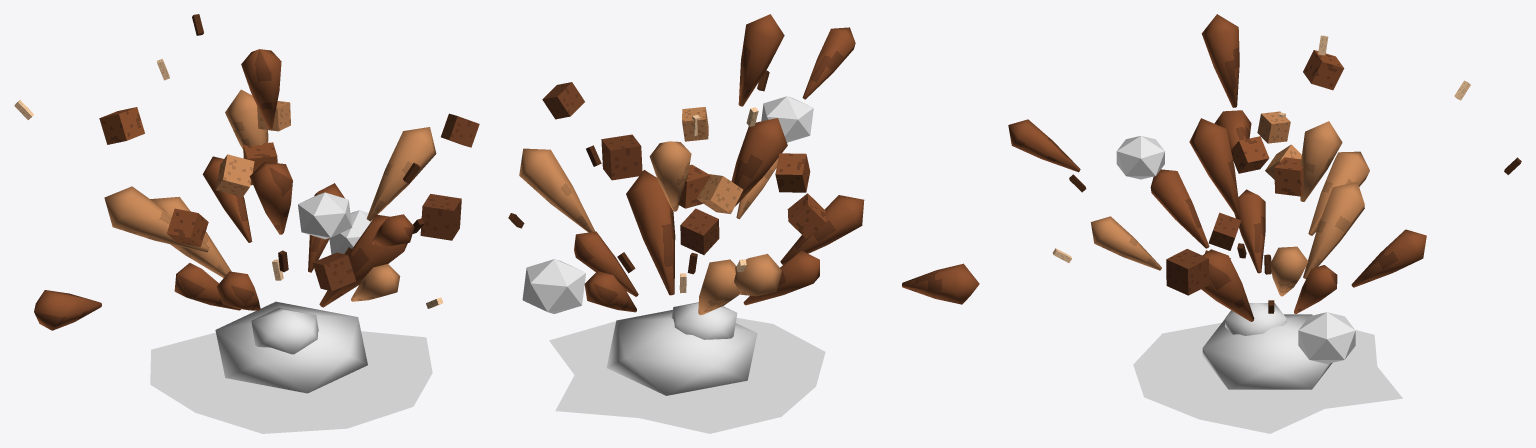
Rendered from Chocolate Splat Burst.fbx.
3 views of the same model, side by side, from view 1: azimuth 30°, elevation 25°; view 2: azimuth 150°, elevation 25°; view 3: azimuth 270°, elevation 25° (orthographic). The views are drawn at different scales.
Parts seen in each view (by area): view 1: Chocolate Splat Burst puddle, Chocolate Splat Burst core, Chocolate Splat Burst drop 3, Chocolate Splat Burst crown 0, Chocolate Splat Burst core top, Chocolate Splat Burst drop 1, Chocolate Splat Burst crown 7, Chocolate Splat Burst drop 4, Chocolate Splat Burst blob 1, Chocolate Splat Burst drop 2, Chocolate Splat Burst cube 7, Chocolate Splat Burst drop 0 (+15 smaller); view 2: Chocolate Splat Burst puddle, Chocolate Splat Burst core, Chocolate Splat Burst crown 7, Chocolate Splat Burst crown 0, Chocolate Splat Burst blob 0, Chocolate Splat Burst drop 4, Chocolate Splat Burst drop 1, Chocolate Splat Burst crown 5, Chocolate Splat Burst drop 2, Chocolate Splat Burst drop 0, Chocolate Splat Burst core top, Chocolate Splat Burst crown 1 (+15 smaller); view 3: Chocolate Splat Burst puddle, Chocolate Splat Burst core, Chocolate Splat Burst crown 3, Chocolate Splat Burst drop 4, Chocolate Splat Burst blob 0, Chocolate Splat Burst drop 1, Chocolate Splat Burst crown 5, Chocolate Splat Burst crown 7, Chocolate Splat Burst drop 0, Chocolate Splat Burst crown 2, Chocolate Splat Burst blob 1, Chocolate Splat Burst crown 4 (+13 smaller).
Boxes of the visible parts, bbox=[...] form: Chocolate Splat Burst puddle: bbox=[150, 331, 432, 433]; Chocolate Splat Burst core: bbox=[215, 301, 367, 393]; Chocolate Splat Burst drop 3: bbox=[104, 186, 209, 252]; Chocolate Splat Burst crown 0: bbox=[366, 127, 436, 221]; Chocolate Splat Burst core top: bbox=[251, 308, 318, 354]; Chocolate Splat Burst drop 1: bbox=[241, 49, 281, 128]; Chocolate Splat Burst crown 7: bbox=[319, 214, 407, 307]; Chocolate Splat Burst drop 4: bbox=[249, 162, 292, 234]; Chocolate Splat Burst blob 1: bbox=[298, 192, 352, 239]; Chocolate Splat Burst drop 2: bbox=[34, 290, 101, 330]; Chocolate Splat Burst cube 7: bbox=[420, 194, 461, 240]; Chocolate Splat Burst drop 0: bbox=[225, 89, 268, 149]; Chocolate Splat Burst puddle: bbox=[549, 318, 825, 433]; Chocolate Splat Burst core: bbox=[606, 310, 757, 395]; Chocolate Splat Burst crown 7: bbox=[626, 170, 675, 295]; Chocolate Splat Burst crown 0: bbox=[519, 148, 595, 232]; Chocolate Splat Burst blob 0: bbox=[522, 259, 585, 313]; Chocolate Splat Burst drop 4: bbox=[731, 118, 787, 206]; Chocolate Splat Burst drop 1: bbox=[738, 14, 784, 106]; Chocolate Splat Burst crown 5: bbox=[780, 195, 864, 264]; Chocolate Splat Burst drop 2: bbox=[902, 263, 979, 304]; Chocolate Splat Burst drop 0: bbox=[649, 141, 691, 211]; Chocolate Splat Burst core top: bbox=[671, 302, 737, 339]; Chocolate Splat Burst crown 1: bbox=[574, 231, 638, 296]; Chocolate Splat Burst puddle: bbox=[1133, 322, 1402, 433]; Chocolate Splat Burst core: bbox=[1202, 314, 1332, 389]; Chocolate Splat Burst crown 3: bbox=[1303, 182, 1364, 279]; Chocolate Splat Burst drop 4: bbox=[1189, 118, 1240, 215]; Chocolate Splat Burst blob 0: bbox=[1298, 312, 1355, 363]; Chocolate Splat Burst drop 1: bbox=[1201, 14, 1239, 107]; Chocolate Splat Burst crown 5: bbox=[1150, 169, 1209, 248]; Chocolate Splat Burst crown 7: bbox=[1201, 249, 1254, 321]; Chocolate Splat Burst drop 0: bbox=[1300, 121, 1342, 201]; Chocolate Splat Burst crown 2: bbox=[1351, 229, 1426, 287]; Chocolate Splat Burst blob 1: bbox=[1116, 136, 1164, 179]; Chocolate Splat Burst crown 4: bbox=[1234, 189, 1265, 273].
Size of the model in its own units: 0.6511 by 0.5179 by 0.709.
8 materials, 5 textured.
